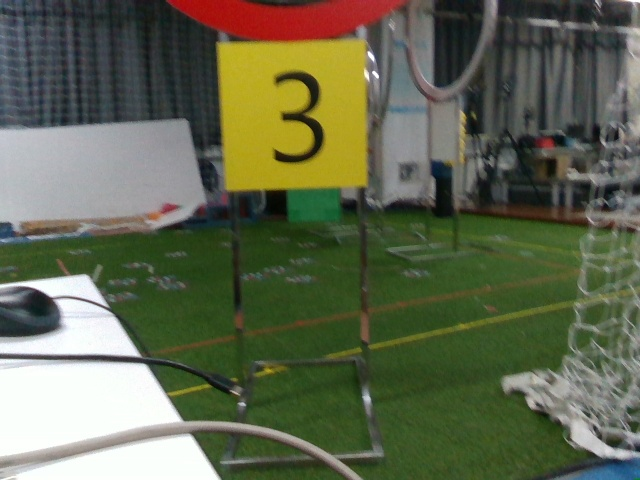target: (224, 51, 364, 182)
